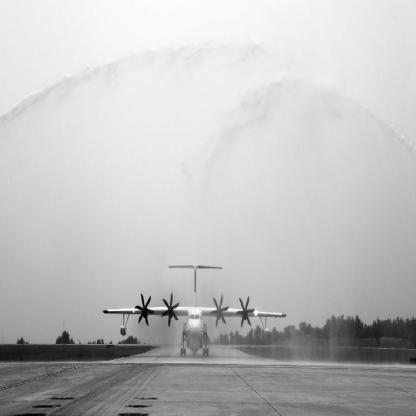AG600: (103, 264, 289, 359)
